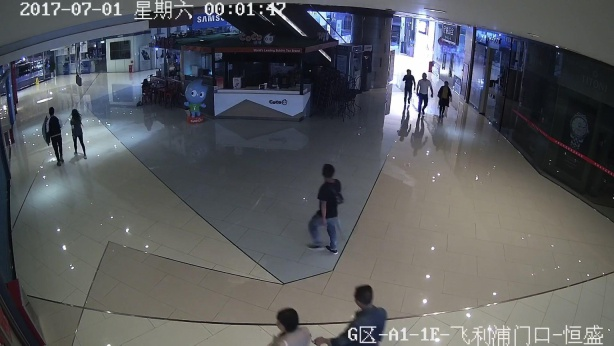person: (311, 159, 349, 246), (336, 279, 401, 325), (263, 301, 309, 345), (40, 102, 70, 167), (65, 105, 92, 156), (416, 71, 434, 128), (400, 67, 417, 122), (438, 78, 449, 118)
